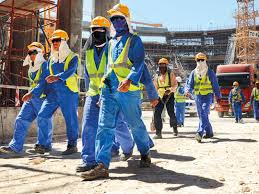helmet: (109, 4, 130, 19), (90, 13, 109, 27), (48, 29, 67, 41), (30, 39, 46, 53), (195, 52, 205, 60), (157, 56, 167, 63), (175, 76, 181, 81), (232, 81, 238, 85), (255, 80, 259, 82)
vest: (108, 40, 142, 90), (86, 51, 104, 93), (50, 58, 75, 88), (27, 67, 44, 97), (194, 71, 212, 97), (158, 74, 172, 95), (231, 90, 243, 103), (177, 85, 186, 102), (254, 87, 259, 99)
